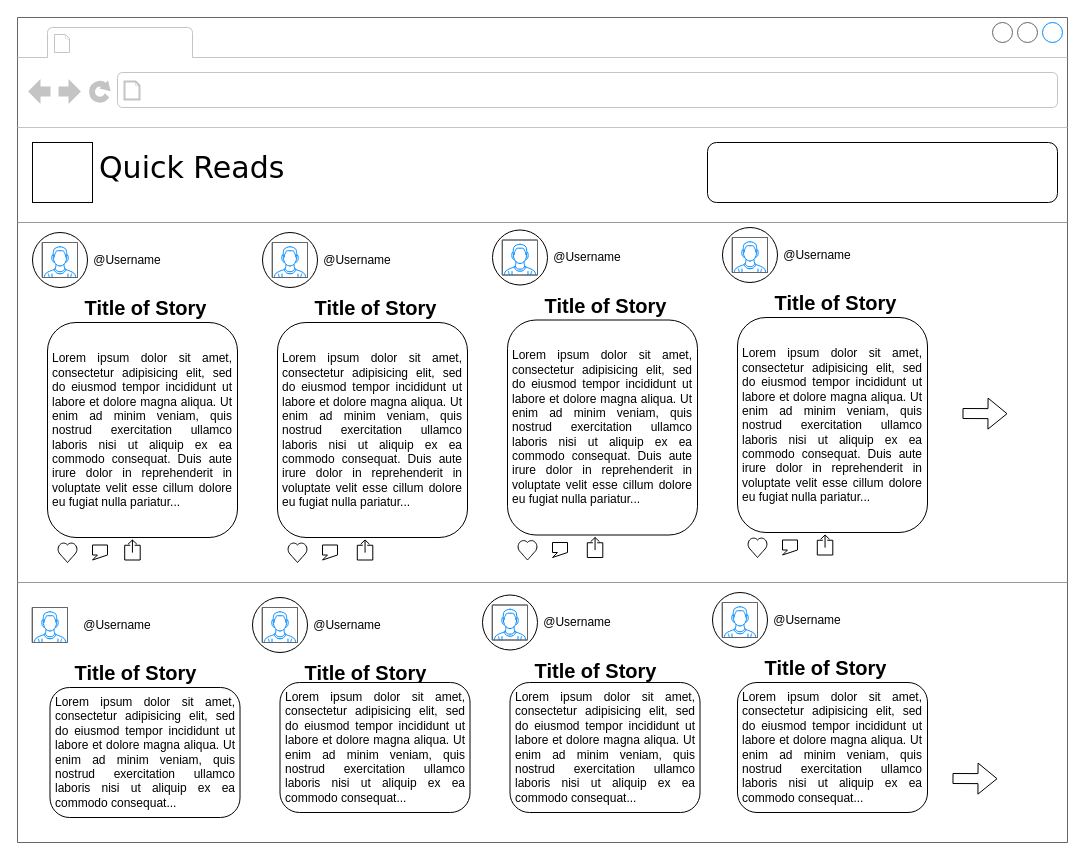
Image size: 1085x860. Some labels were removed from this diagram. Each missing label, with the box of its shape:
Home Discover Create Profile Sign Out: (706, 142, 1058, 202)
https://www.default.com: (146, 76, 398, 104)
Logo: (32, 142, 92, 202)
Page 1: (76, 28, 188, 56)
